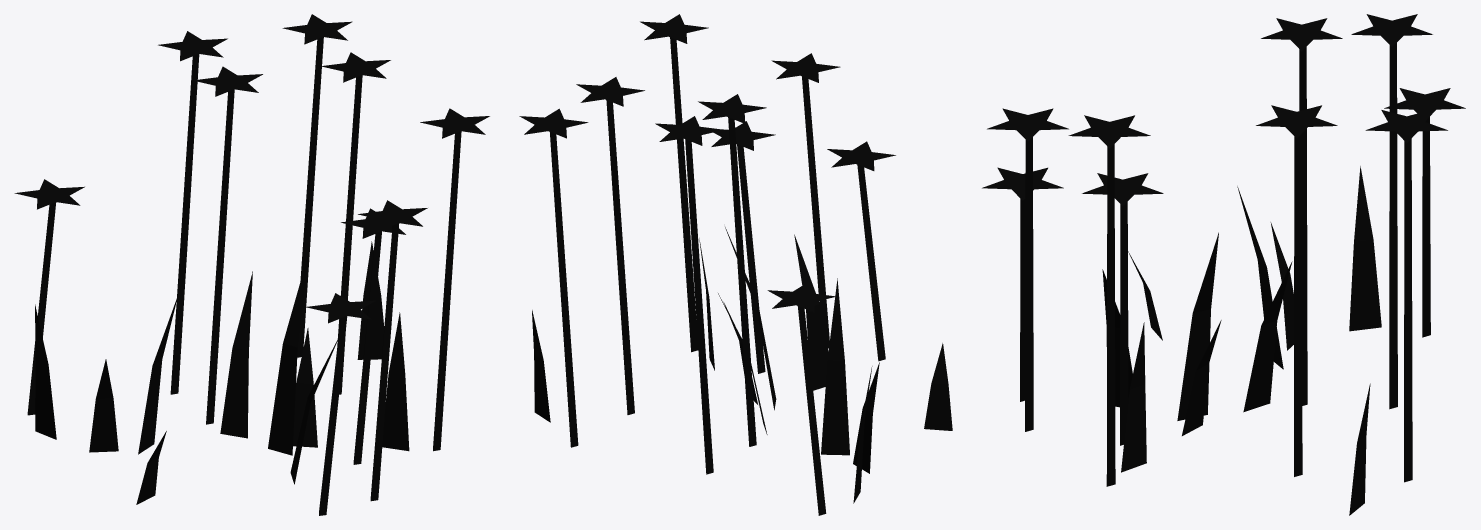
Rendered from SM_flowers_yellow.fbx.
The picture shows the model from 3 angles, left to right: view 1: azimuth 30°, elevation 25°; view 2: azimuth 150°, elevation 25°; view 3: azimuth 270°, elevation 25°; orthographic projection. The views are drawn at different scales.
Visible parts, largest first — view 1: flowers_yellow; view 2: flowers_yellow; view 3: flowers_yellow.
Part boxes in pixels (left/top/right/bottom): flowers_yellow: left=14, top=14, right=489, bottom=515; flowers_yellow: left=519, top=14, right=952, bottom=515; flowers_yellow: left=982, top=14, right=1465, bottom=515.
Bounding box in the file's own units: 0.4739 × 0.4451 × 0.5006.
